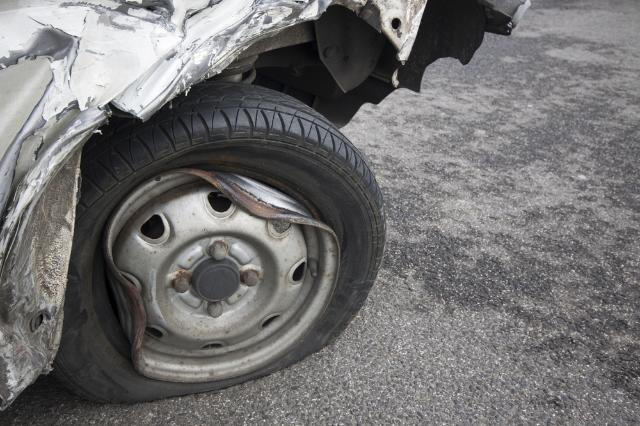dent: (0, 0, 335, 400)
tire flat: (51, 82, 388, 405)
